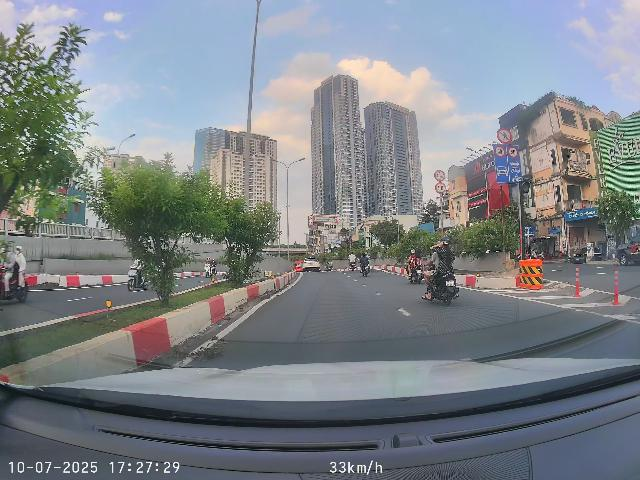127-toc-do-toi-da-50: (508, 146, 519, 158), (435, 182, 446, 194), (495, 146, 506, 157)
